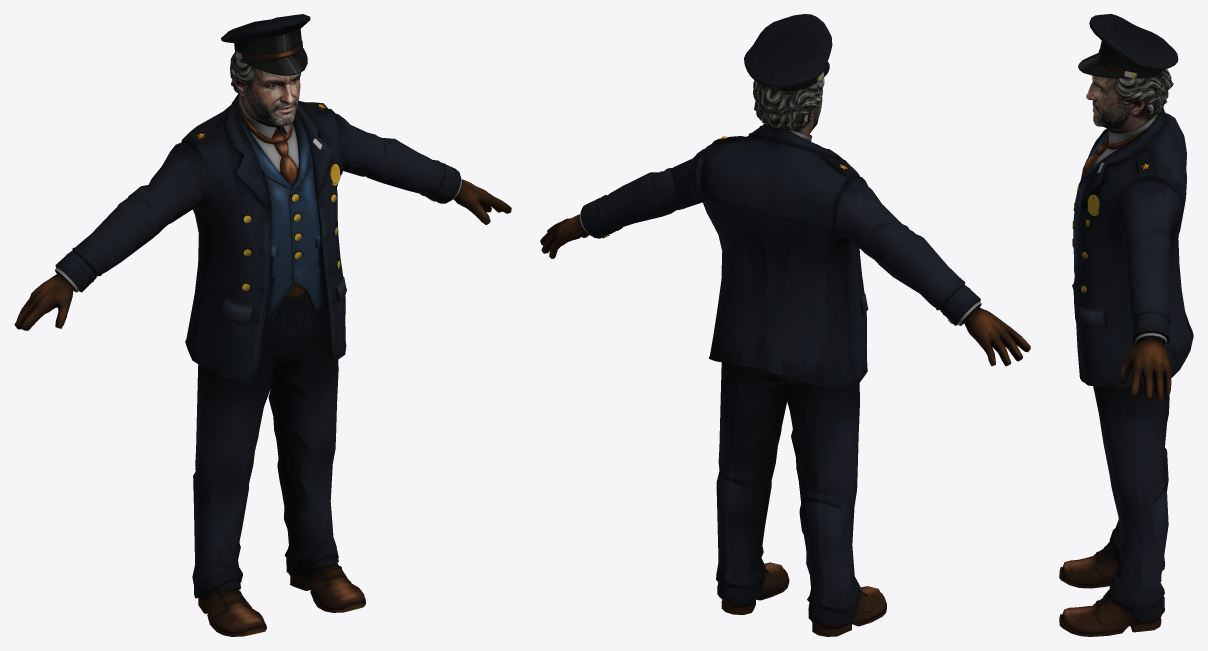
The model's file is PL_guide.fbx.
3 views of the same model, side by side, from view 1: azimuth 30°, elevation 25°; view 2: azimuth 150°, elevation 25°; view 3: azimuth 270°, elevation 25° (orthographic).
Visible parts, largest first — view 1: guide; view 2: guide; view 3: guide.
Boxes of the visible parts, x1=… form: guide: x1=14, y1=14, x2=511, y2=636; guide: x1=540, y1=14, x2=1030, y2=636; guide: x1=1059, y1=14, x2=1193, y2=636.
Bounding box in the file's own units: 2.85 × 3.3 × 0.691.
1 material, 1 textured.
